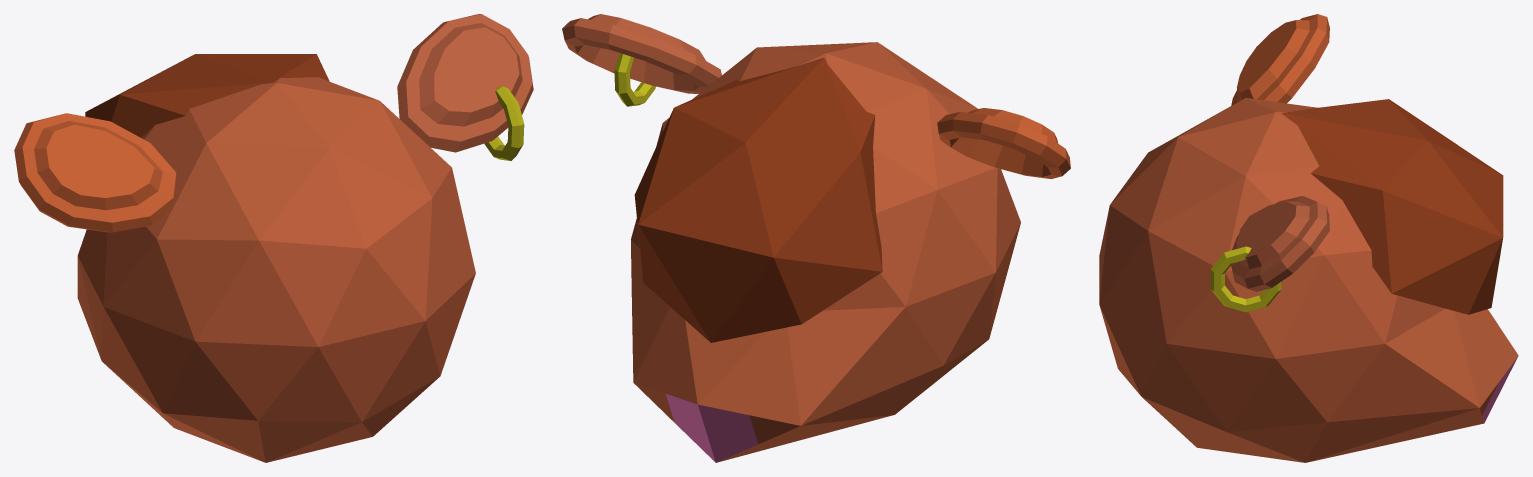
Rendered from cow3.glb.
3 views of the same model, side by side, from view 1: azimuth 30°, elevation 25°; view 2: azimuth 150°, elevation 25°; view 3: azimuth 270°, elevation 25° (orthographic). The views are drawn at different scales.
Visible parts, largest first — view 1: head; view 2: head; view 3: head.
Boxes of the visible parts, x1,y1,x2,y2 form: head: (14,14,533,462); head: (562,14,1070,462); head: (1099,14,1518,462).
Size of the model in its own units: 2.94 by 2 by 2.26.
